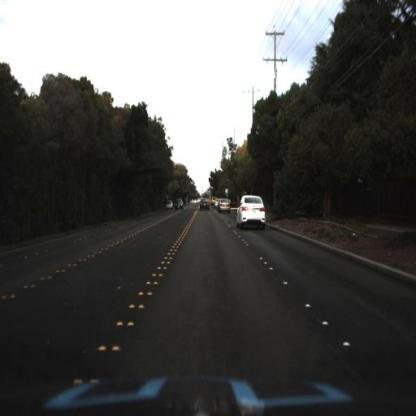car: (236, 194, 274, 236), (217, 195, 231, 218), (164, 198, 178, 215), (201, 198, 214, 213), (174, 198, 186, 213), (175, 198, 185, 213), (167, 199, 176, 213)
